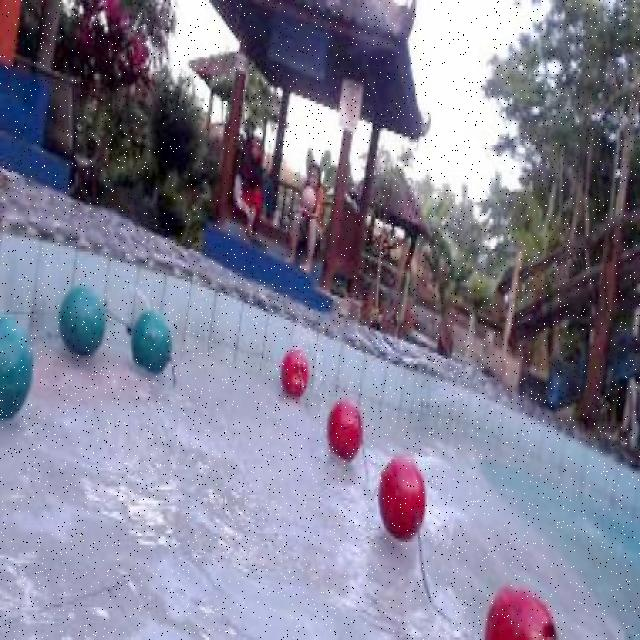buoy: (378, 455, 426, 541), (484, 584, 556, 636), (0, 309, 33, 419), (58, 284, 105, 356), (131, 311, 171, 373), (326, 398, 364, 461), (279, 349, 308, 395)
